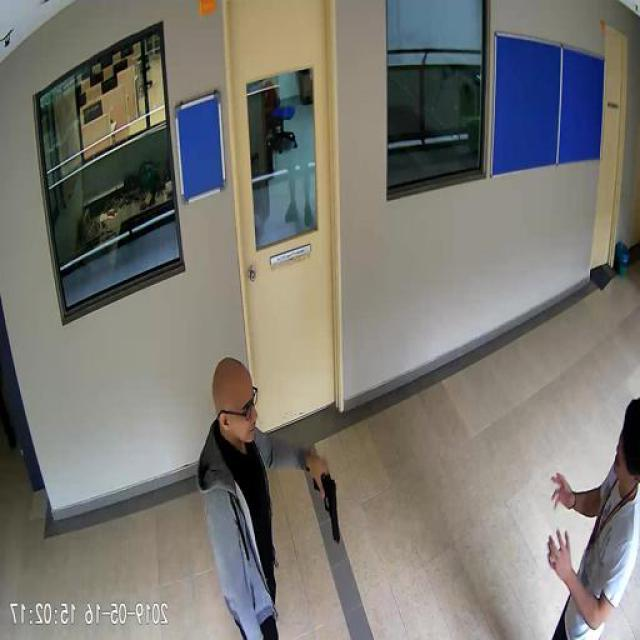Gun: (314, 466, 342, 542)
